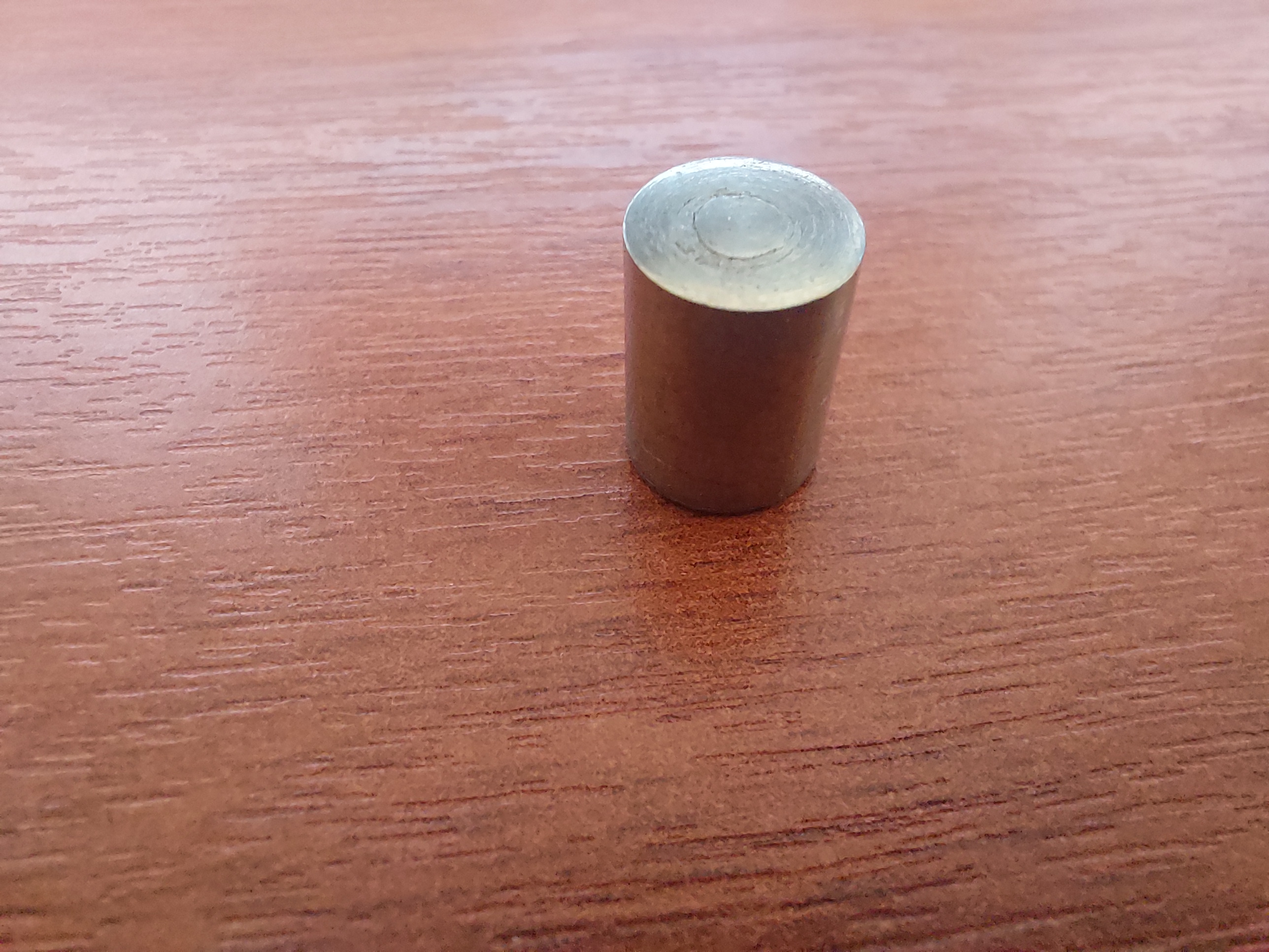tablet: (626, 166, 865, 524)
